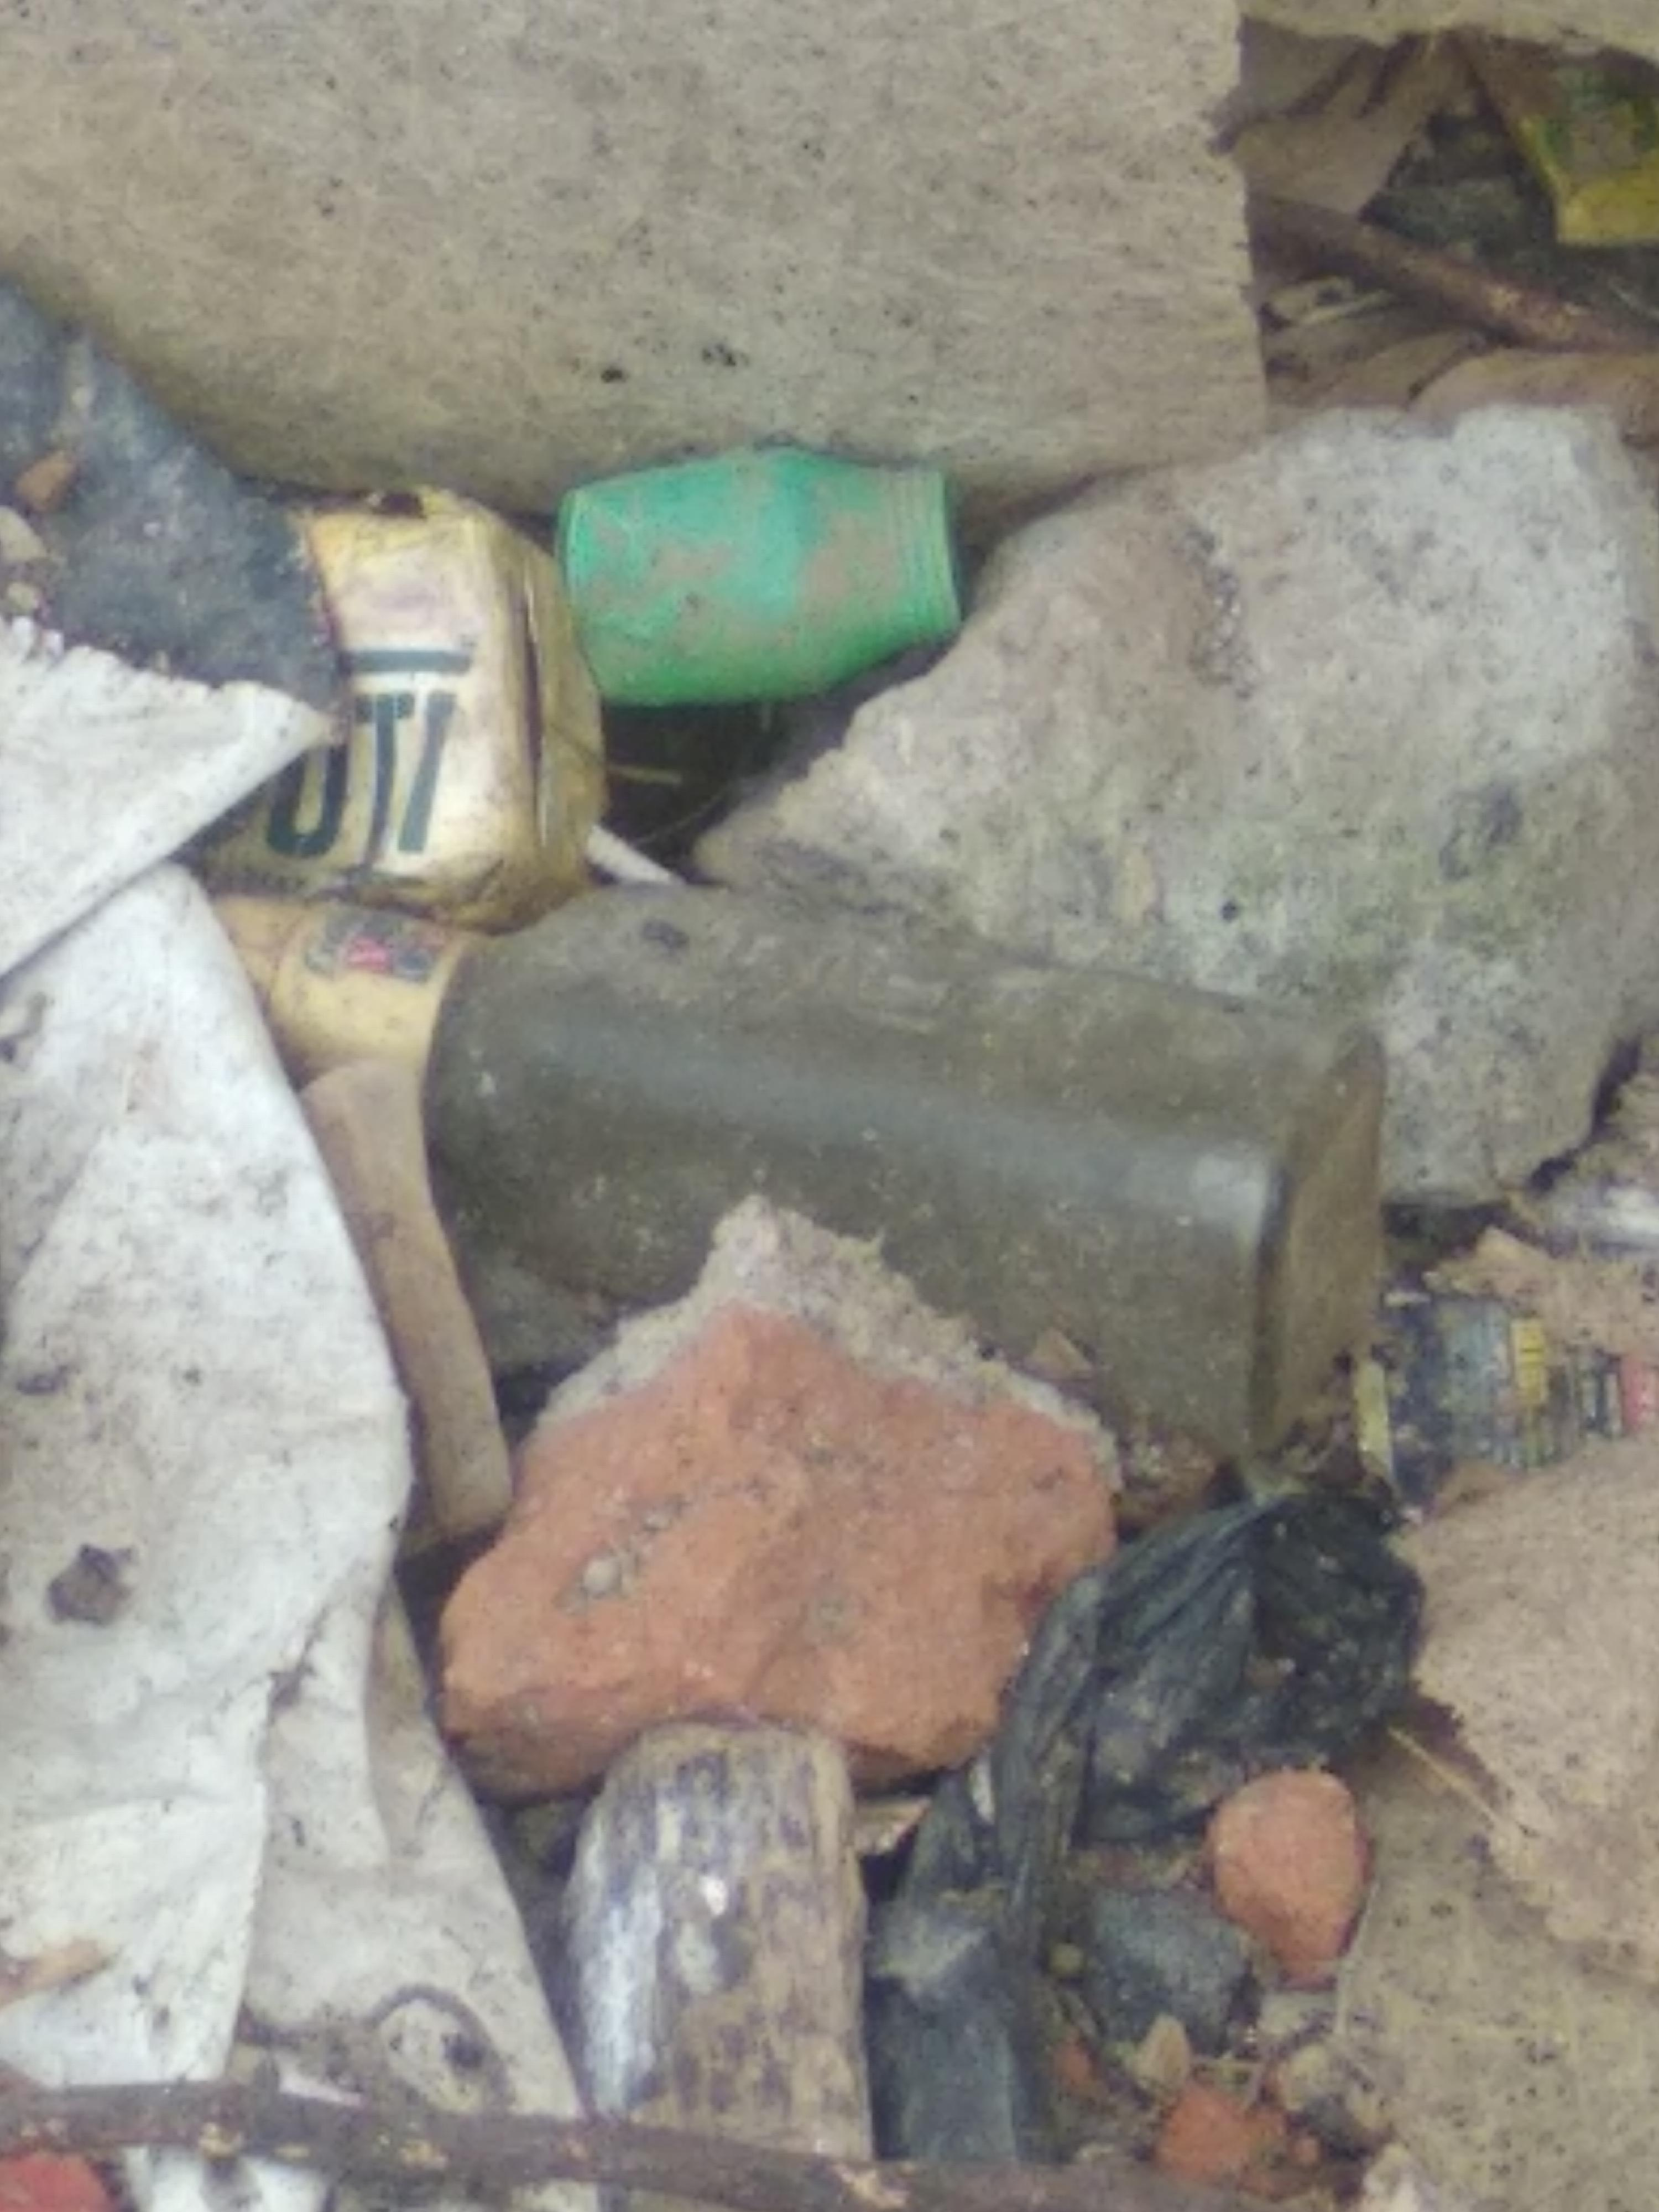organic: (0, 437, 1432, 2212)
